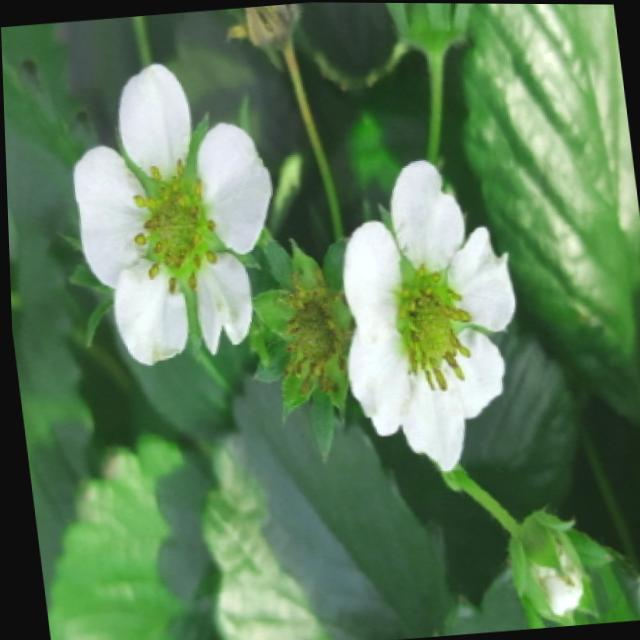Blossom Blight: (121, 149, 221, 300), (384, 255, 473, 395), (279, 289, 346, 395)
